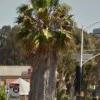Palm tree: (16, 4, 70, 99)
